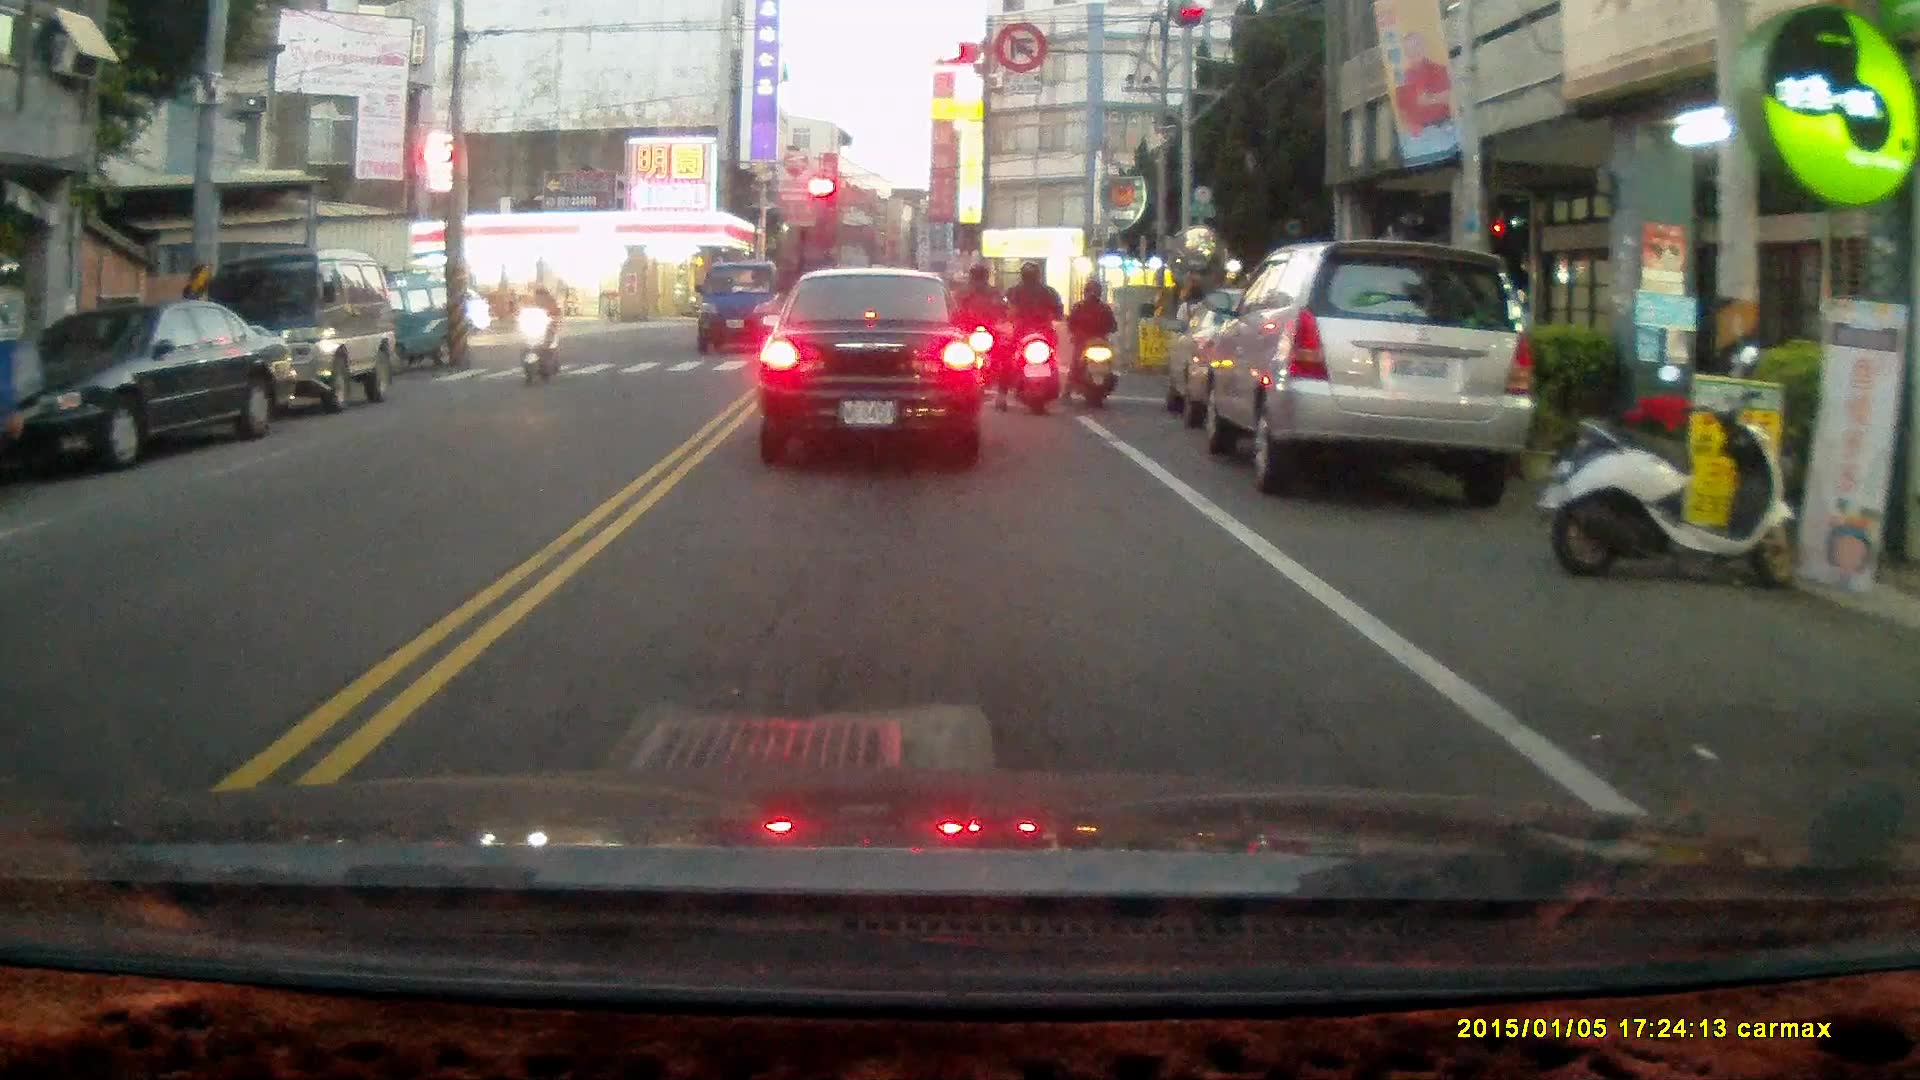pedestrian: (1173, 278, 1217, 399)
rider: (991, 256, 1068, 420), (1061, 275, 1119, 408), (950, 263, 1002, 395), (522, 282, 563, 388)
vehicle: (1189, 240, 1527, 497), (3, 298, 283, 474), (762, 266, 991, 465), (182, 245, 397, 408)
